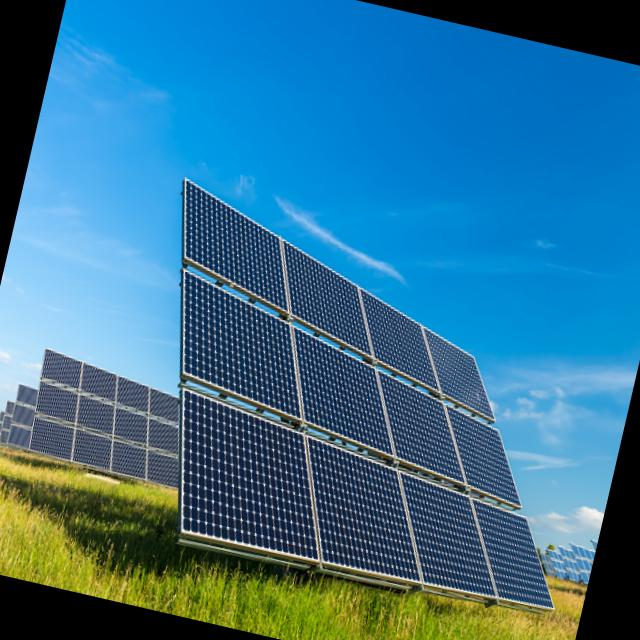no faulty: (174, 185, 554, 609)
